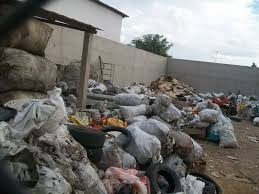rubble: (6, 89, 187, 193), (188, 100, 233, 147), (147, 74, 192, 99)
